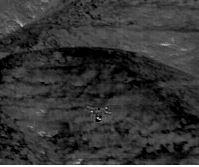Target: (84, 104, 115, 125)
